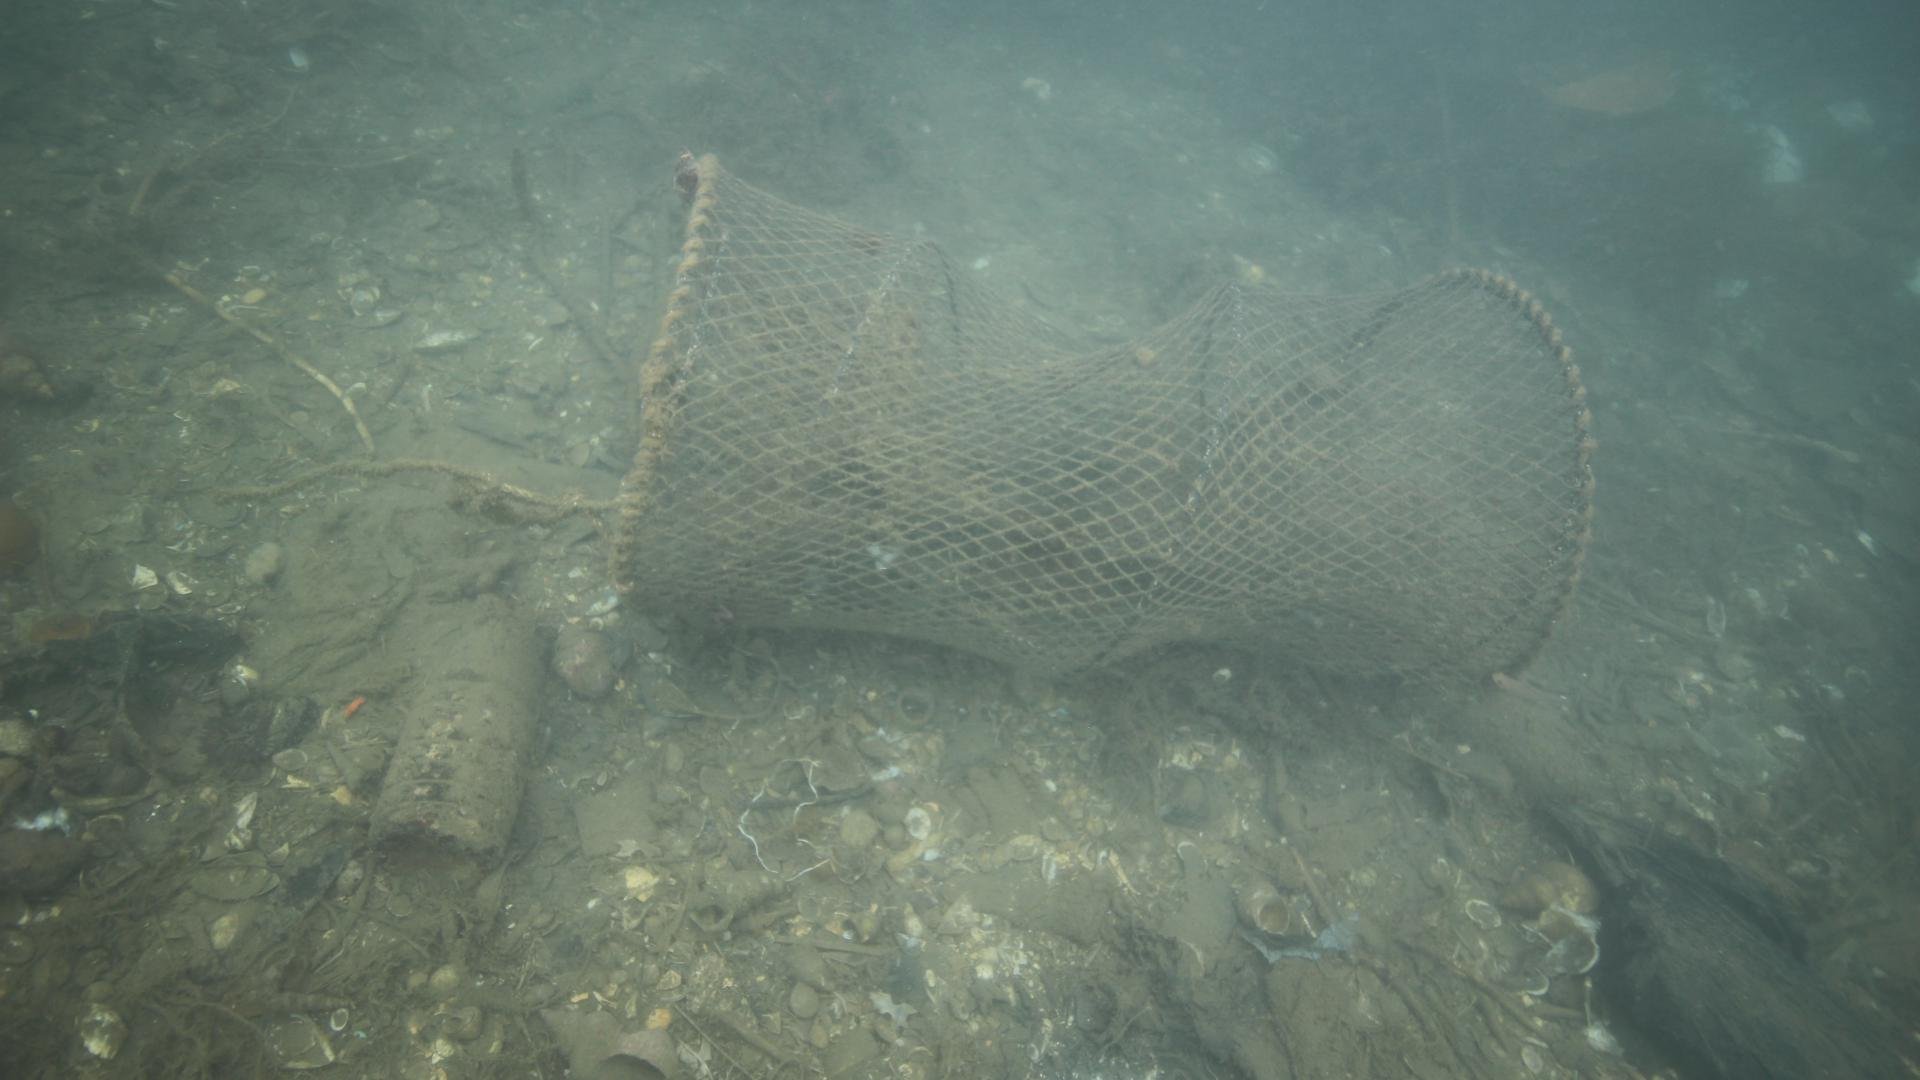spring fish trap: (607, 149, 1596, 700)
